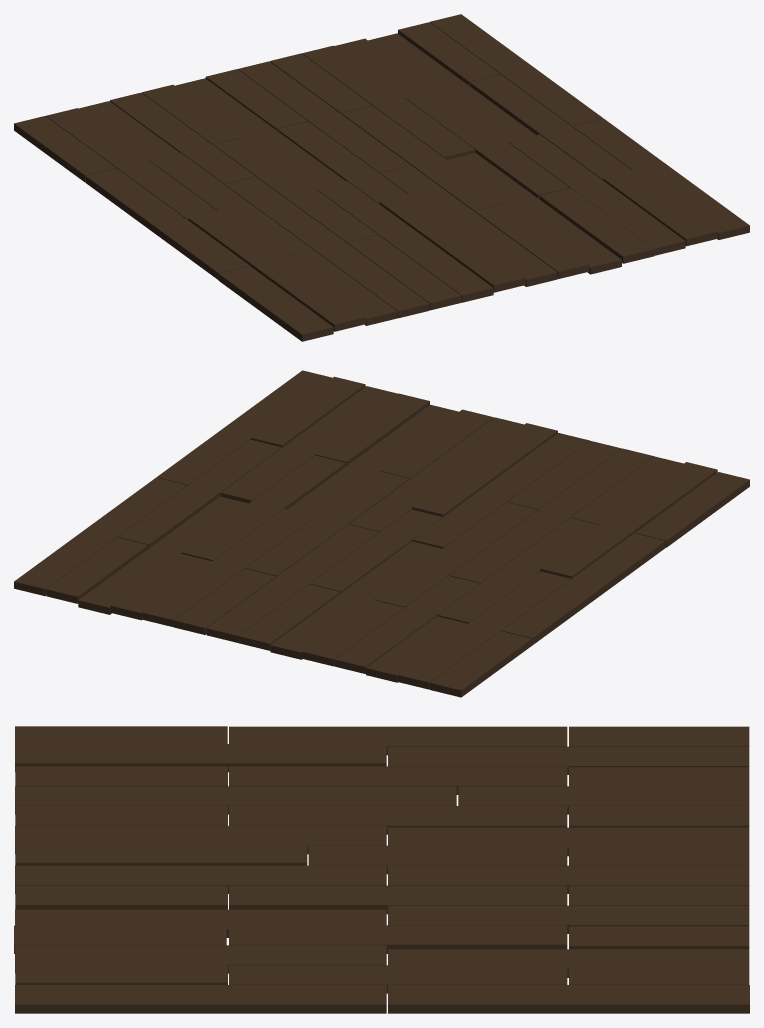
File: suelo4.fbx
The picture shows the model from 3 angles, top to bottom: view 1: azimuth 30°, elevation 25°; view 2: azimuth 150°, elevation 25°; view 3: azimuth 270°, elevation 25°; orthographic projection. The views are drawn at different scales.
Visible parts, largest first — view 1: Suelo.003; view 2: Suelo.003; view 3: Suelo.003.
Boxes of the visible parts, x1,y1,x2,y2 form: Suelo.003: [14, 14, 749, 341]; Suelo.003: [14, 370, 749, 697]; Suelo.003: [14, 726, 749, 1013].
Size of the model in its own units: 321 by 8.58 by 359.
